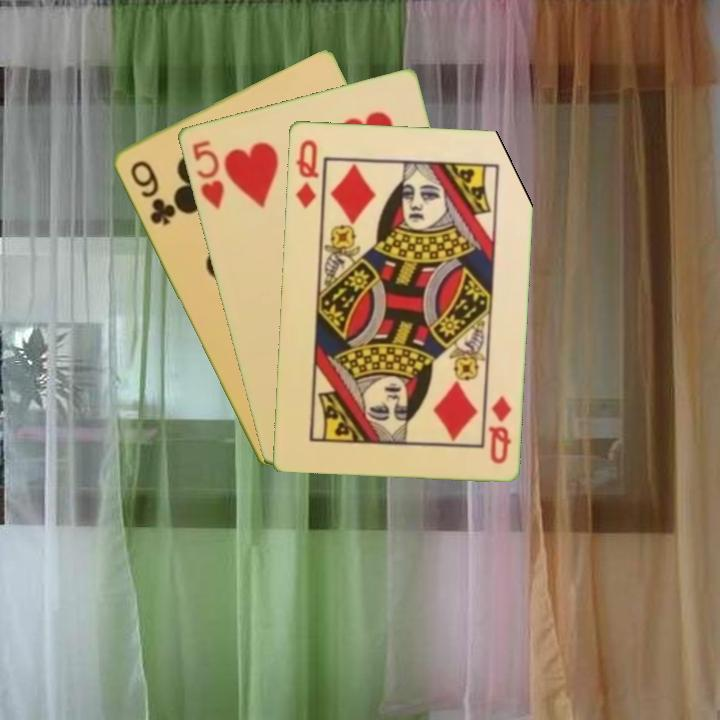5h: (188, 136, 227, 212)
9c: (126, 156, 177, 229)
Qd: (291, 136, 321, 211), (485, 392, 514, 466)
